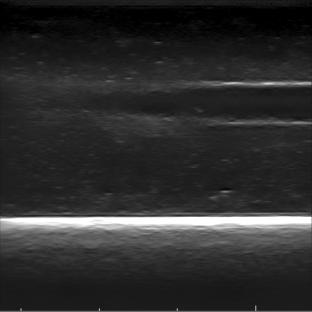vessel: (140, 80, 311, 129)
